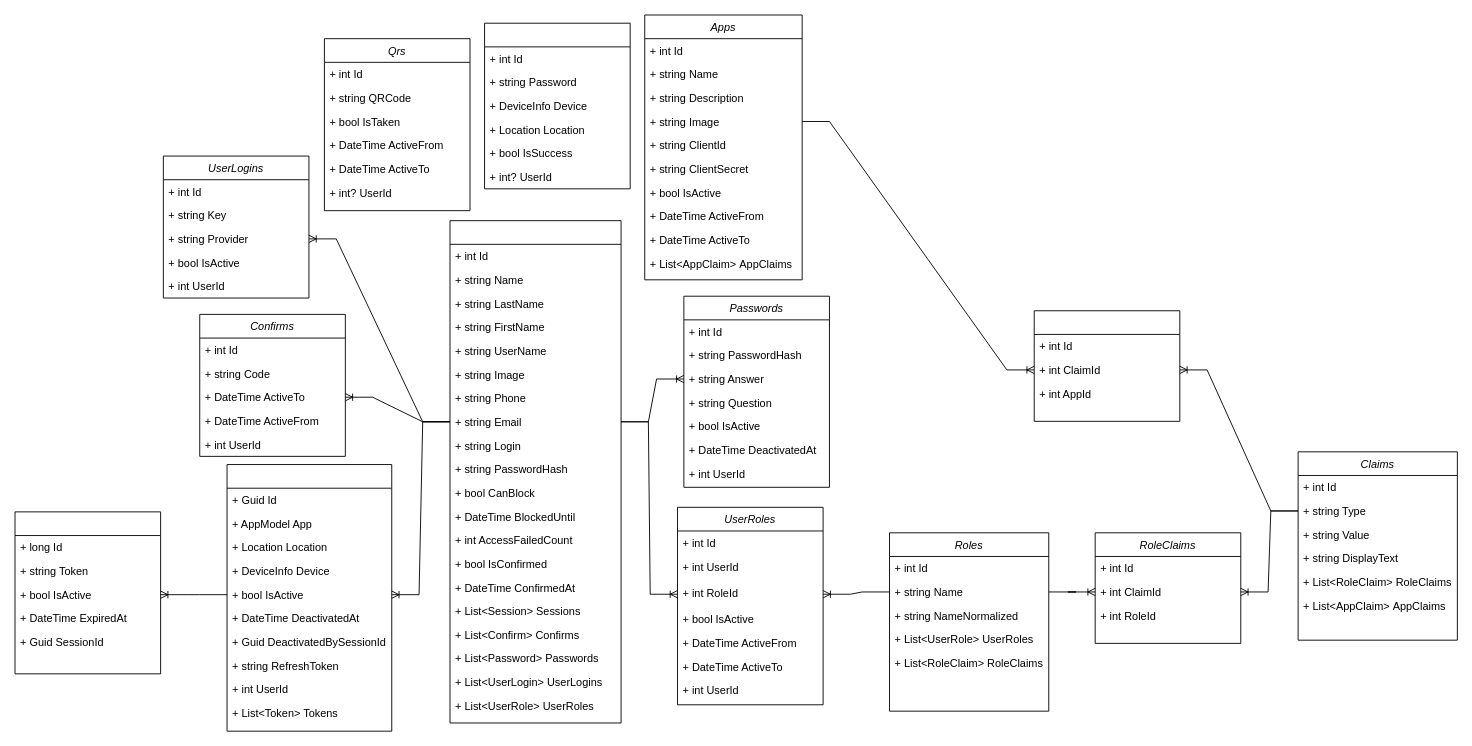
Image size: 1472x746. Some labels were removed from this diagram. The box of each missing label's shape, as (x1, y1, x2, y2) in pixels:
AppClaims: (1033, 310, 1180, 421)
LoginAttempts: (484, 22, 630, 189)
Sessions: (226, 464, 392, 731)
Tokens: (14, 511, 161, 674)
Users: (449, 220, 621, 723)
